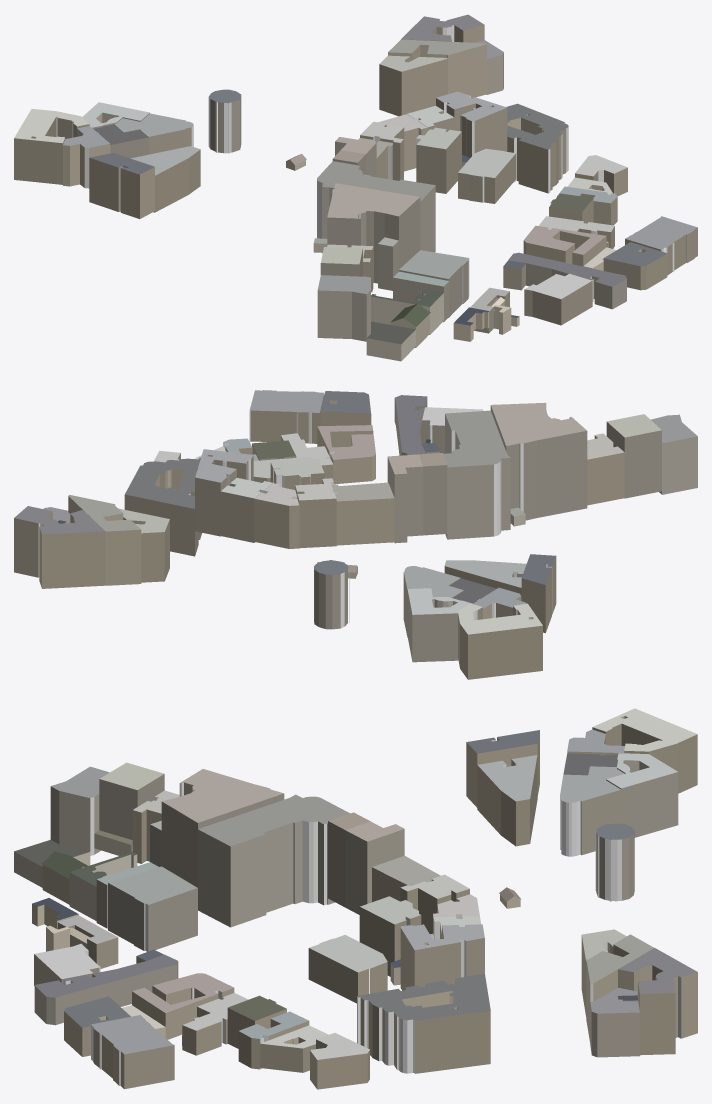
The picture shows the model from 3 angles, top to bottom: view 1: azimuth 30°, elevation 25°; view 2: azimuth 150°, elevation 25°; view 3: azimuth 270°, elevation 25°; orthographic projection. The views are drawn at different scales.
Parts seen in each view (by area): view 1: tuile; view 2: tuile; view 3: tuile.
Boxes of the visible parts, left/top/right/bottom form: tuile: left=14, top=14, right=697, bottom=361; tuile: left=14, top=390, right=697, bottom=679; tuile: left=14, top=708, right=697, bottom=1089.
Bounding box in the file's own units: 277 × 53.61 × 278.
